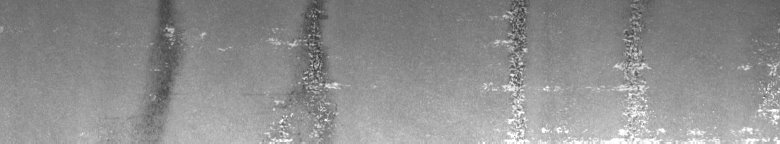hc: (150, 5, 341, 136)
